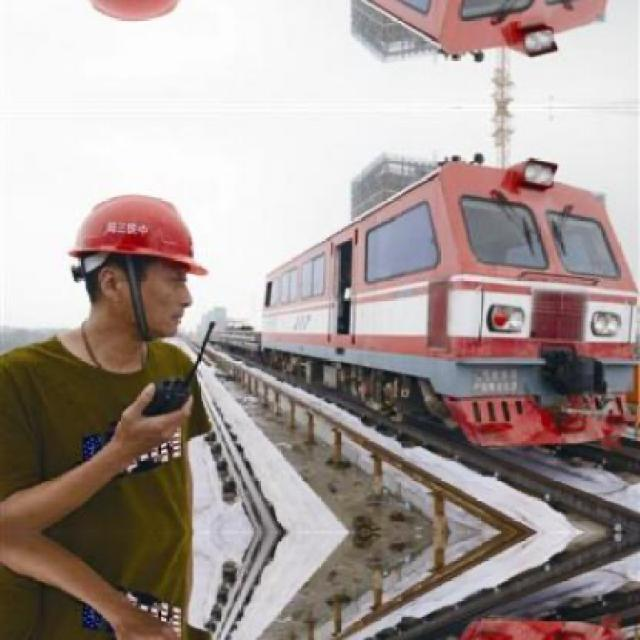helmet: (54, 174, 215, 352), (52, 0, 216, 40)
